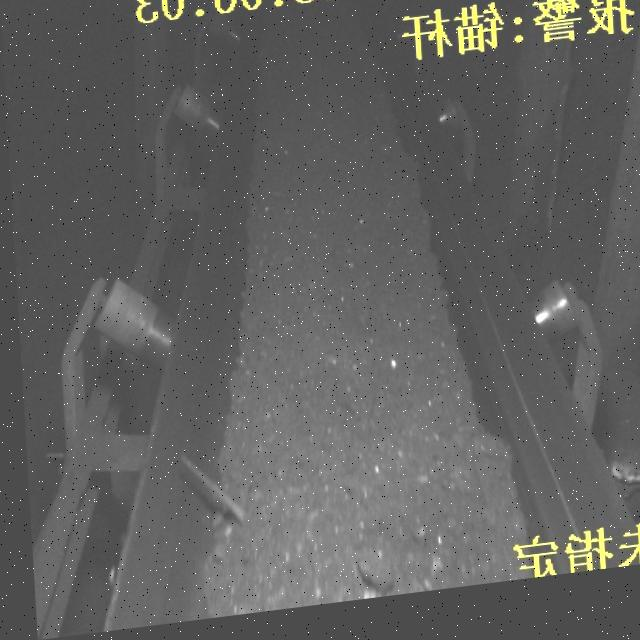bolt: (176, 454, 249, 543)
large_sized_coal: (347, 558, 389, 608)
